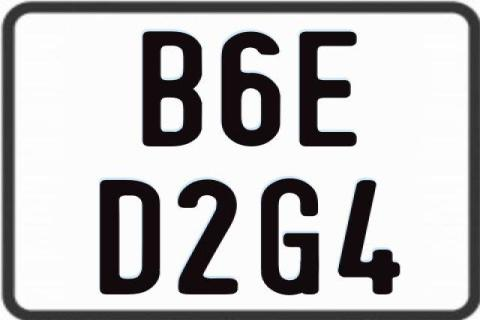0: (337, 180, 405, 298), (219, 32, 283, 150), (178, 178, 240, 294)
B: (142, 31, 202, 147)
D: (100, 180, 161, 298)
E: (299, 29, 359, 148)
G: (260, 178, 319, 298)
